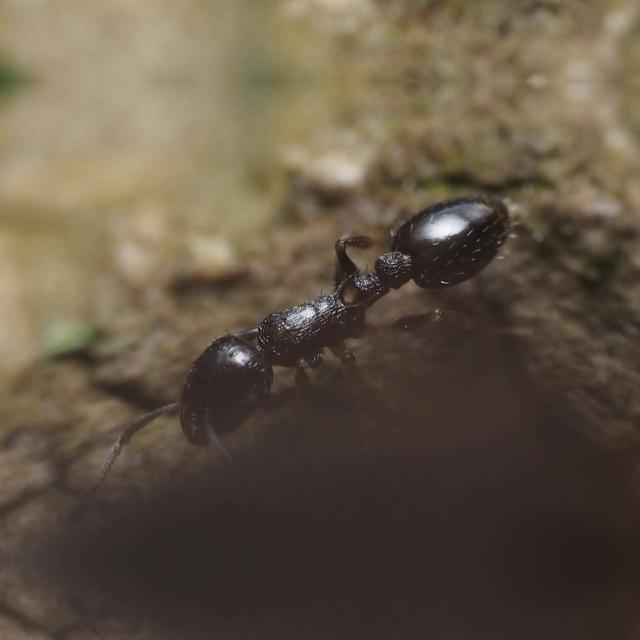Temnothorax: (72, 144, 568, 464)
